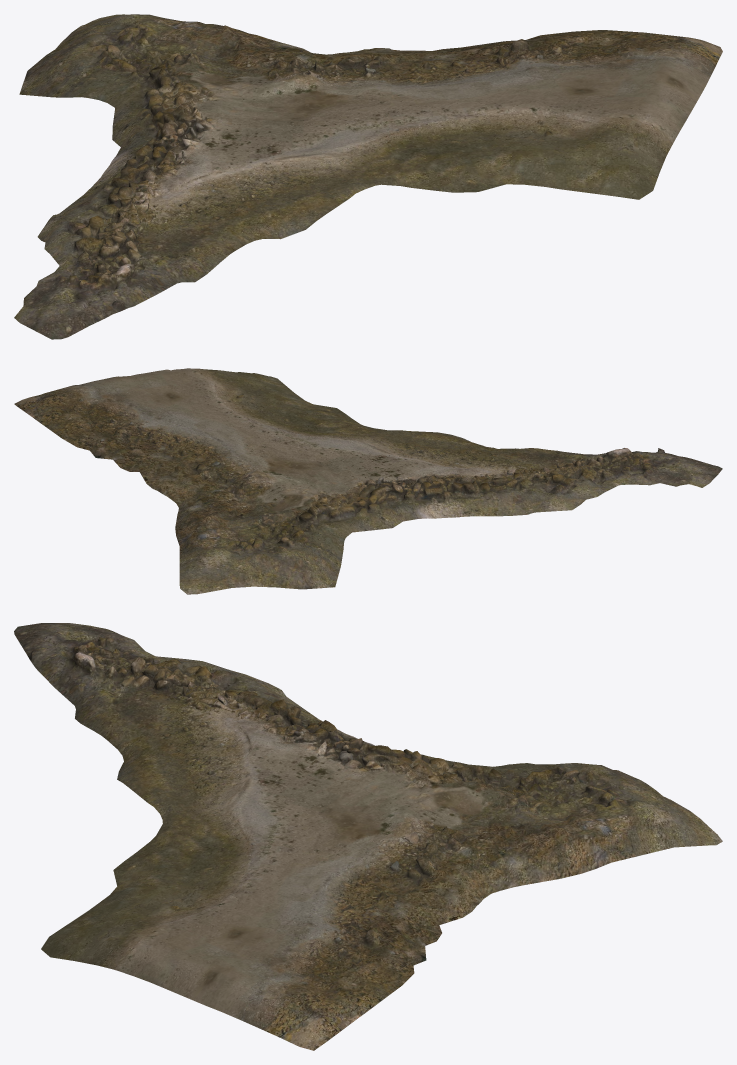
3 views of the same model, one above another, from view 1: azimuth 30°, elevation 25°; view 2: azimuth 150°, elevation 25°; view 3: azimuth 270°, elevation 25° (orthographic). The views are drawn at different scales.
Visible parts, largest first — view 1: coast_rocks_01_lod0; view 2: coast_rocks_01_lod0; view 3: coast_rocks_01_lod0.
Part boxes in pixels (x1,y1,x2,y2): coast_rocks_01_lod0: (14,14,722,339); coast_rocks_01_lod0: (14,368,722,594); coast_rocks_01_lod0: (14,623,722,1050).
Size of the model in its own units: 59.49 by 3.25 by 42.51.
1 material, 1 textured.
